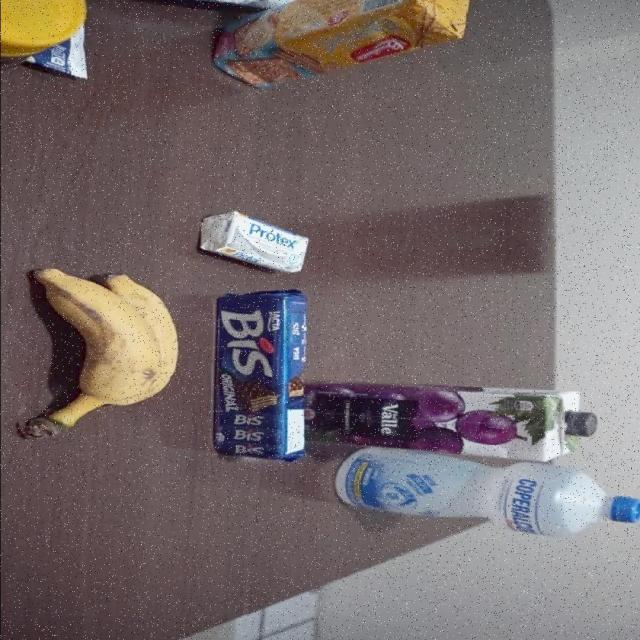AlcoholBottle: (329, 447, 640, 538)
Banana: (18, 266, 180, 442)
ChocolatePowder: (0, 0, 87, 72)
Cracker: (206, 0, 473, 93)
Popcorn: (26, 27, 96, 87)
Soap: (198, 210, 313, 275)
